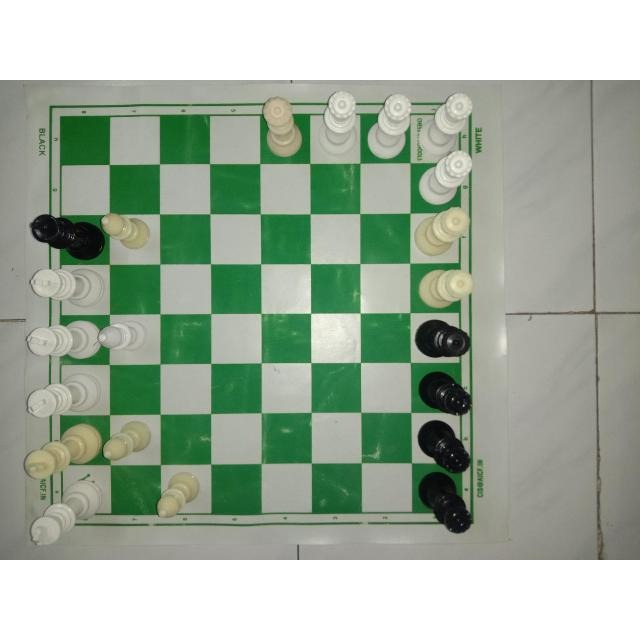black-king: (26, 211, 108, 263)
black-queen: (411, 469, 476, 537), (413, 419, 473, 477), (413, 368, 474, 418), (413, 316, 473, 362)
white-bishop: (100, 416, 154, 464), (155, 468, 203, 519), (99, 211, 153, 255), (95, 316, 149, 355)
white-king: (27, 478, 105, 548), (22, 419, 103, 482), (25, 371, 105, 421), (27, 264, 106, 310), (24, 317, 106, 361)
white-queen: (415, 89, 476, 158), (409, 206, 473, 264), (365, 90, 414, 164), (417, 148, 477, 208), (256, 93, 305, 160), (412, 264, 476, 314), (316, 89, 359, 160)
